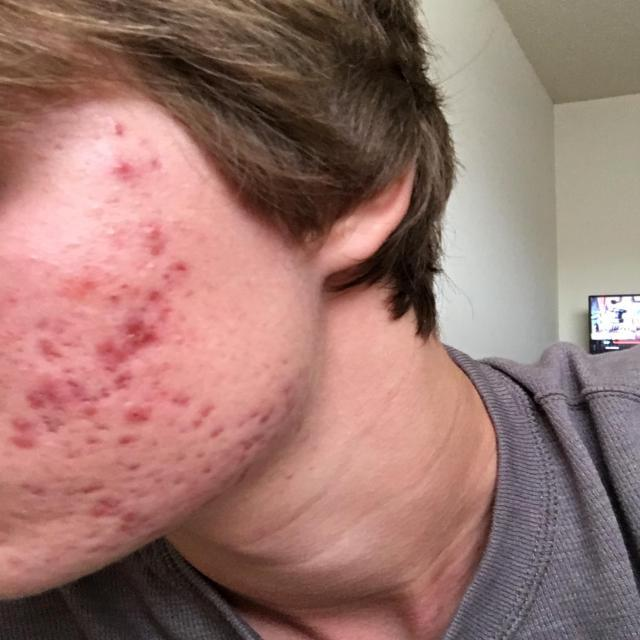Acne: (0, 264, 171, 548), (174, 378, 296, 474), (91, 203, 204, 270), (106, 114, 154, 181)
